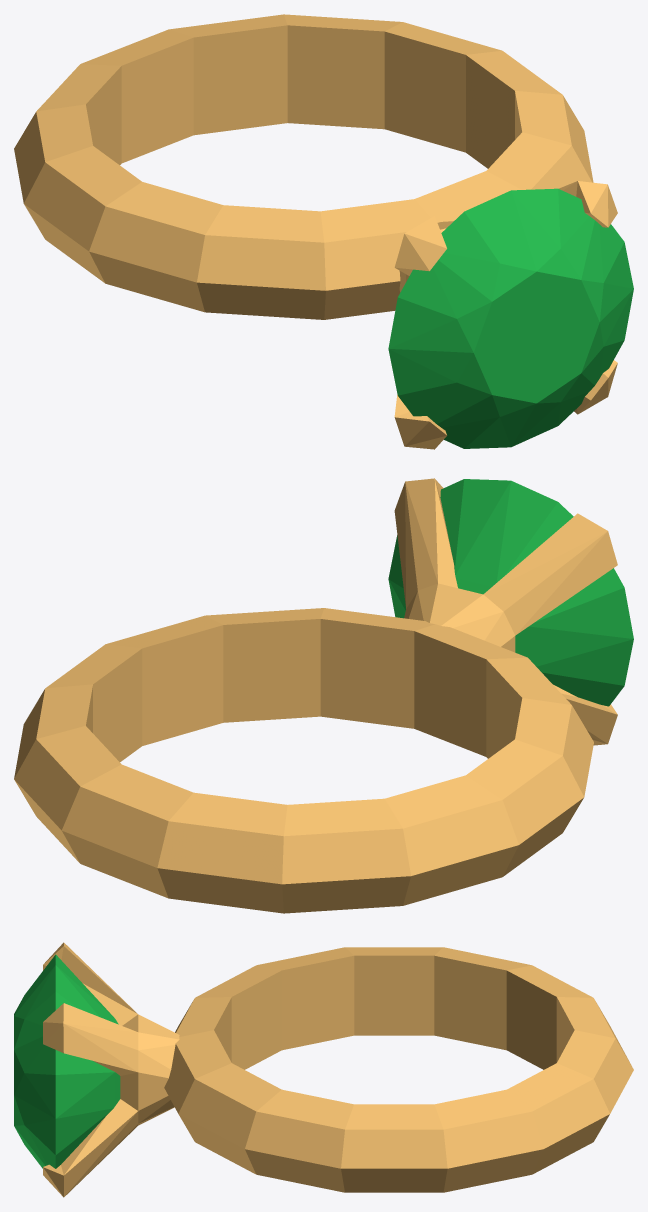
Rendered from ring.obj.
3 views of the same model, one above another, from view 1: azimuth 30°, elevation 25°; view 2: azimuth 150°, elevation 25°; view 3: azimuth 270°, elevation 25° (orthographic). The views are drawn at different scales.
Parts seen in each view (by area): view 1: Object.2, Object.1, Object.3; view 2: Object.2, Object.1, Object.3; view 3: Object.2, Object.3, Object.1.
Part boxes in pixels (box(x1,y1,x2,y2)): Object.2: box(14, 14, 593, 319); Object.1: box(388, 188, 633, 448); Object.3: box(394, 181, 617, 449); Object.2: box(14, 608, 593, 913); Object.1: box(388, 479, 633, 706); Object.3: box(394, 478, 617, 745); Object.2: box(164, 947, 633, 1192); Object.3: box(43, 942, 179, 1197); Object.1: box(14, 954, 120, 1168).
Bounding box in the file's own units: 15.62 × 7.74 × 20.72.
